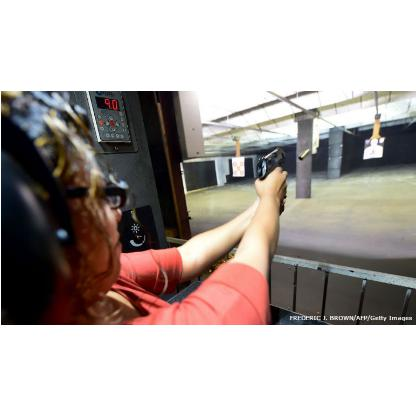gun: (253, 146, 289, 216)
